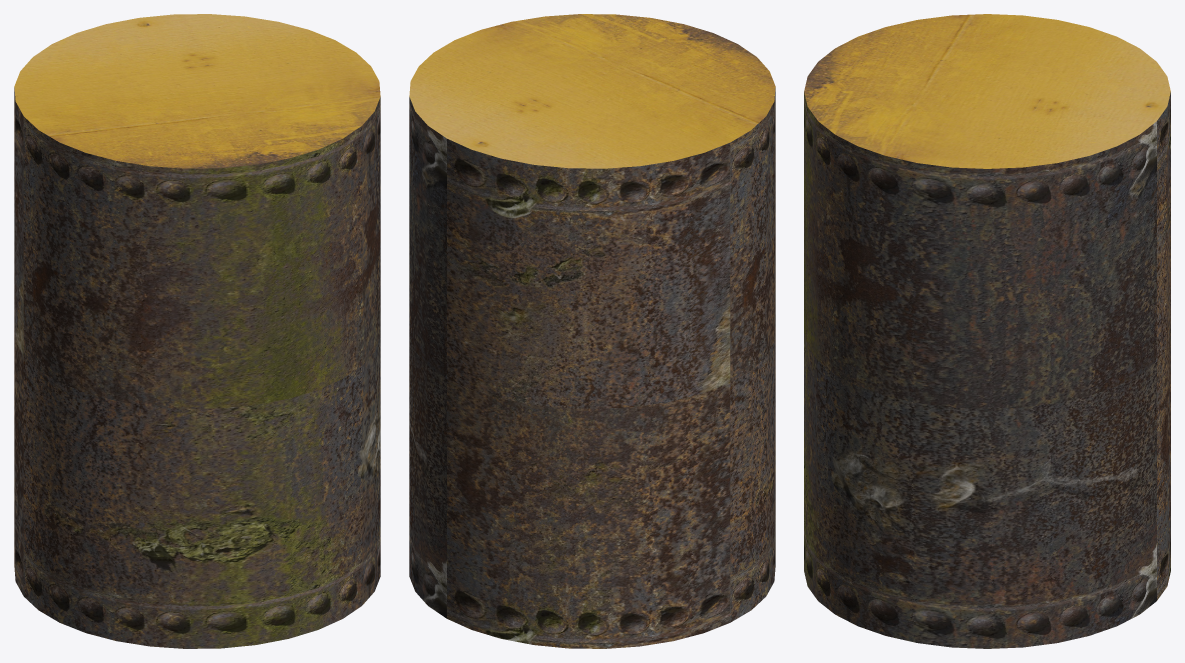
The model's file is Can.fbx.
The picture shows the model from 3 angles, left to right: view 1: azimuth 30°, elevation 25°; view 2: azimuth 150°, elevation 25°; view 3: azimuth 270°, elevation 25°; orthographic projection.
Visible parts, largest first — view 1: Cylinder; view 2: Cylinder; view 3: Cylinder.
Boxes of the visible parts, x1,y1,x2,y2 form: Cylinder: (14, 14, 380, 648); Cylinder: (409, 14, 775, 648); Cylinder: (804, 14, 1170, 648).
Size of the model in its own units: 200 by 289 by 200.
